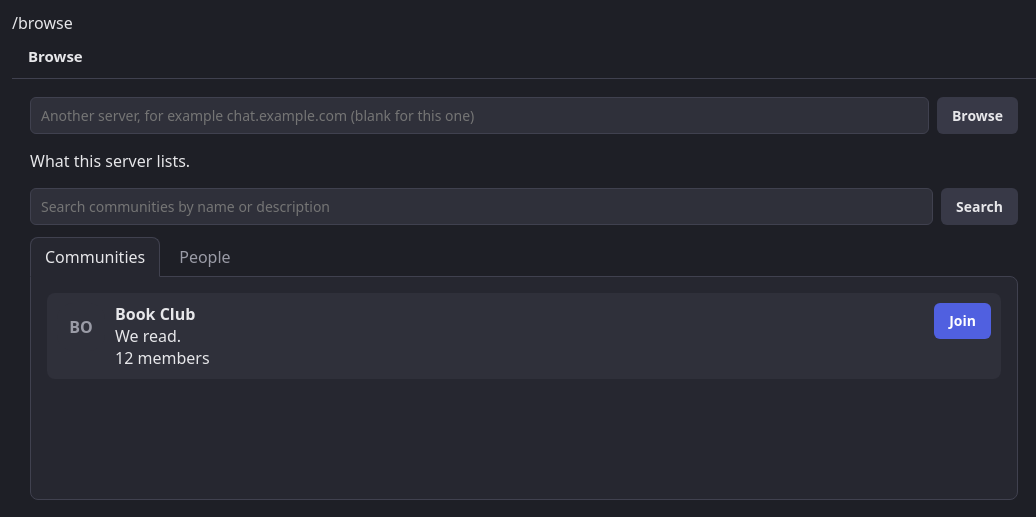
Test: Browse: when it cannot be shown › says so for another server (0)
The width and height of the screenshot is (1036, 517).
Expected: the text "Book Club" is shown, [115,303,195,325]
Replace the text in the field named "Server to browse" with "far.example" at (479, 116), box [30,97,929,134]
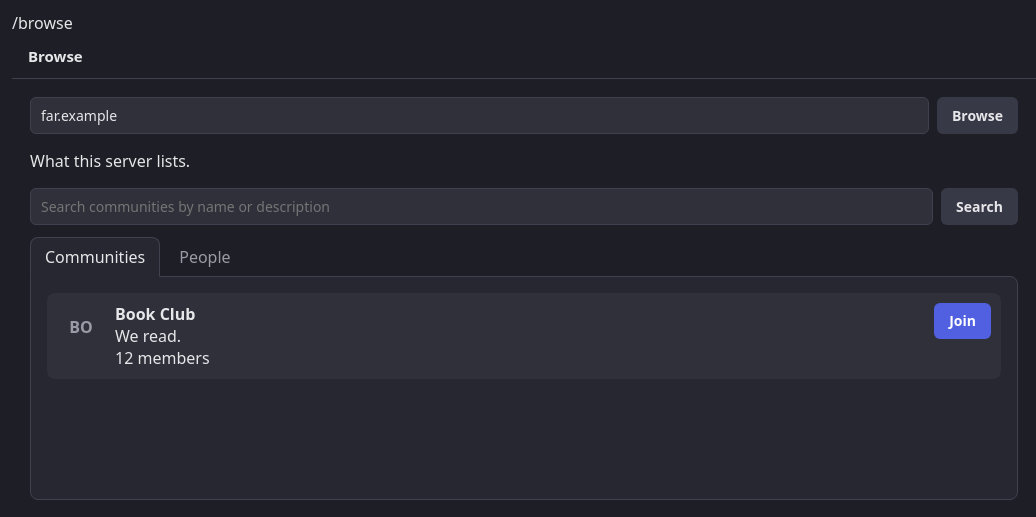
Click the button "Browse" at (977, 116), box [937,97,1018,134]
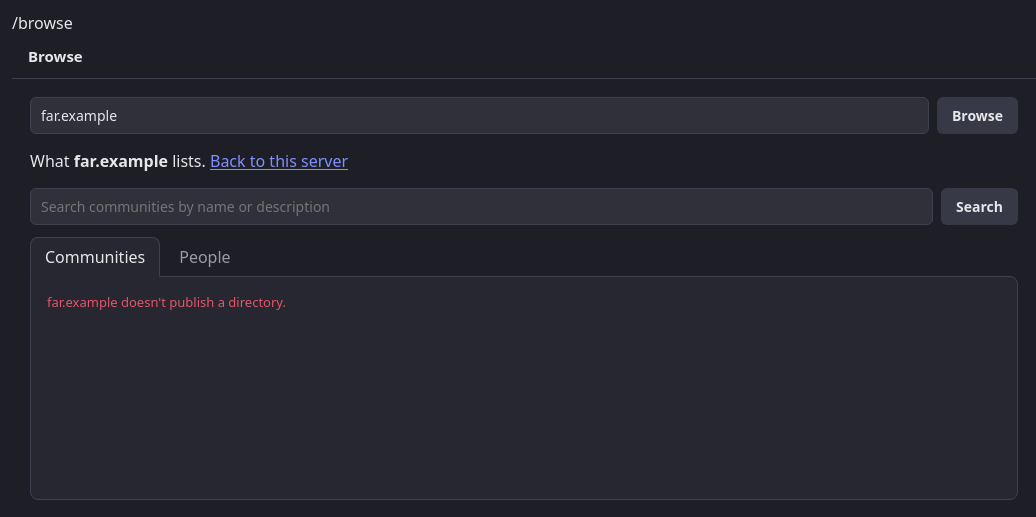
Expected: the message reads "far.example doesn't publish a directory.", [47,293,286,311]
